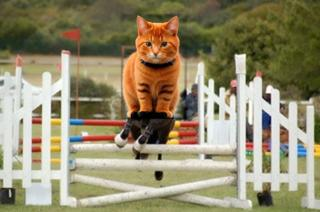cat: (121, 14, 186, 118)
horse: (116, 51, 190, 181)
